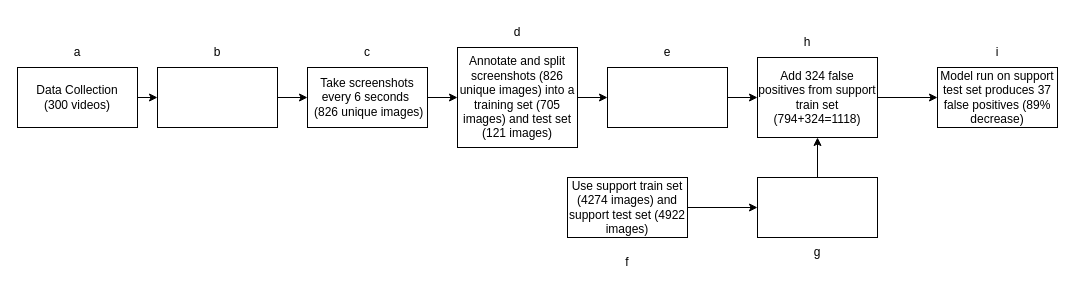
Some shapes in this 1075 by 294 pixel diagram are drawn without their labels. Each missing label, with the centre of its shape:
Add 89 white vape images to train set ( 705+89 = 794): point (667, 97)
Model run on support test set produces 337 false positives: point (817, 207)
Remove Duplicates (248 videos): point (217, 97)
